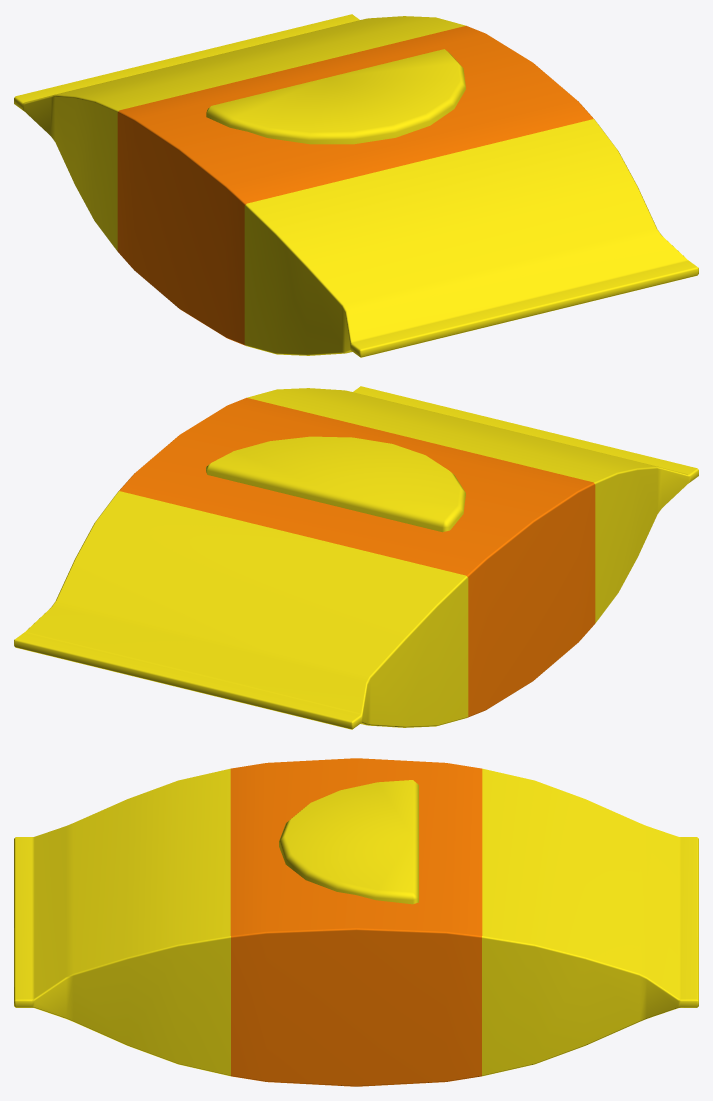
The model's file is chips.glb.
3 views of the same model, one above another, from view 1: azimuth 30°, elevation 25°; view 2: azimuth 150°, elevation 25°; view 3: azimuth 270°, elevation 25° (orthographic).
Visible parts, largest first — view 1: Chips_1; view 2: Chips_1; view 3: Chips_1.
Part boxes in pixels (x1,y1,x2,y2): Chips_1: (14,14,698,357); Chips_1: (14,386,698,729); Chips_1: (14,758,698,1086).
Bounding box in the file's own units: 0.2195 × 0.0991 × 0.3708.
1 material, 1 textured.
